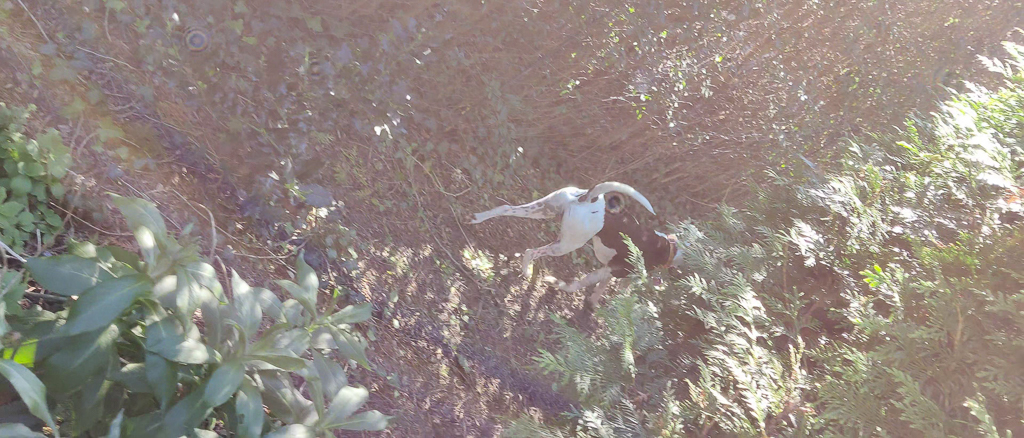Dog: (454, 172, 703, 319)
